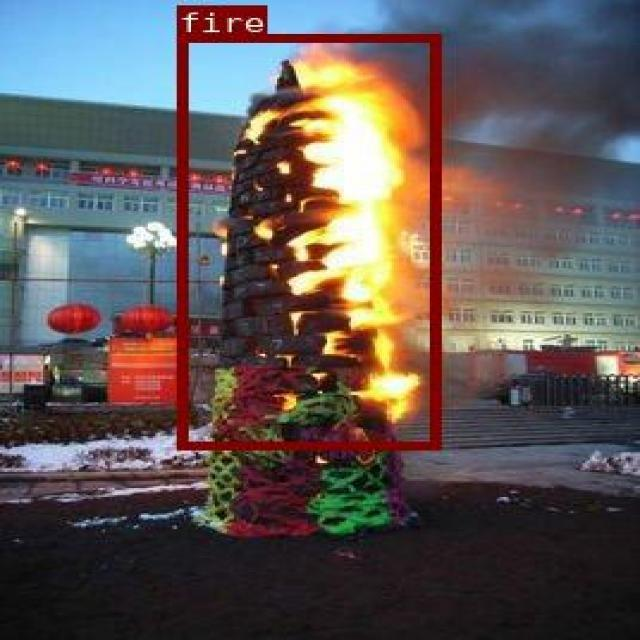fire: (176, 33, 438, 447)
